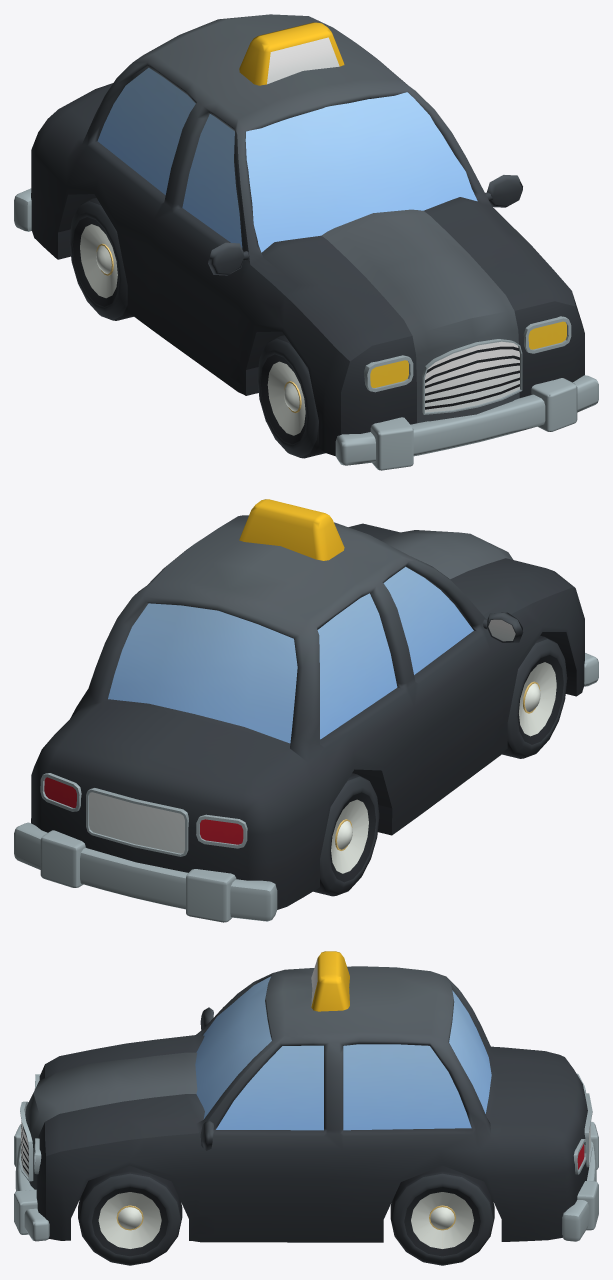
Rendered from England_Taxi.fbx.
3 views of the same model, one above another, from view 1: azimuth 30°, elevation 25°; view 2: azimuth 150°, elevation 25°; view 3: azimuth 270°, elevation 25° (orthographic). The views are drawn at different scales.
Visible parts, largest first — view 1: England_Taxi_Body1, England_Taxi_Wheel1, England_Taxi_Wheel2; view 2: England_Taxi_Body1, England_Taxi_Wheel1, England_Taxi_Wheel2; view 3: England_Taxi_Body1, England_Taxi_Wheel1, England_Taxi_Wheel2.
Part boxes in pixels (x1,y1,x2,y2): England_Taxi_Body1: [14, 14, 598, 470]; England_Taxi_Wheel1: [257, 335, 325, 458]; England_Taxi_Wheel2: [69, 198, 133, 320]; England_Taxi_Body1: [14, 499, 598, 922]; England_Taxi_Wheel1: [502, 635, 567, 758]; England_Taxi_Wheel2: [313, 773, 379, 896]; England_Taxi_Body1: [14, 951, 598, 1242]; England_Taxi_Wheel1: [78, 1165, 182, 1265]; England_Taxi_Wheel2: [390, 1165, 494, 1265].
Bounding box in the file's own units: 0.6643 × 0.6142 × 1.28.
